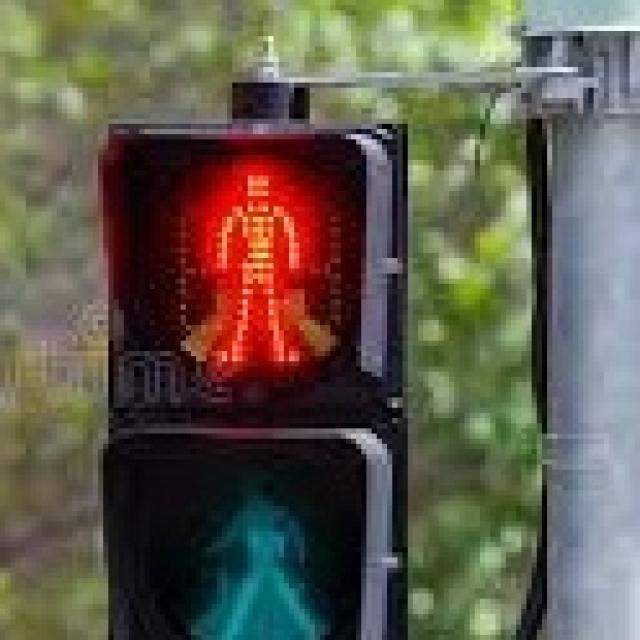red-crossing: (150, 144, 356, 388)
